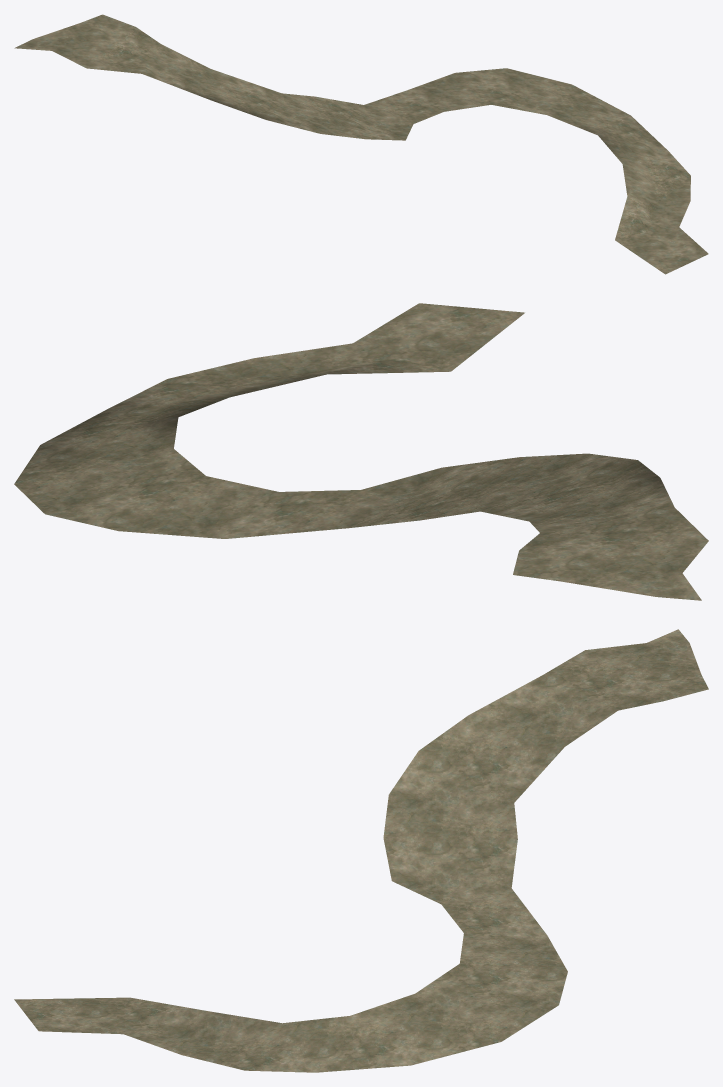
The model's file is OVERHILL_A_01_LINE11.fbx.
3 views of the same model, one above another, from view 1: azimuth 30°, elevation 25°; view 2: azimuth 150°, elevation 25°; view 3: azimuth 270°, elevation 25° (orthographic). The views are drawn at different scales.
Visible parts, largest first — view 1: OVERHILL_A_01_LINE11; view 2: OVERHILL_A_01_LINE11; view 3: OVERHILL_A_01_LINE11.
Part boxes in pixels (x1,y1,x2,y2): OVERHILL_A_01_LINE11: (14,14,708,274); OVERHILL_A_01_LINE11: (14,303,708,600); OVERHILL_A_01_LINE11: (14,629,708,1072).
Bounding box in the file's own units: 125202 × 28280 × 121944.
Materials: 1 (1 with a texture image).
